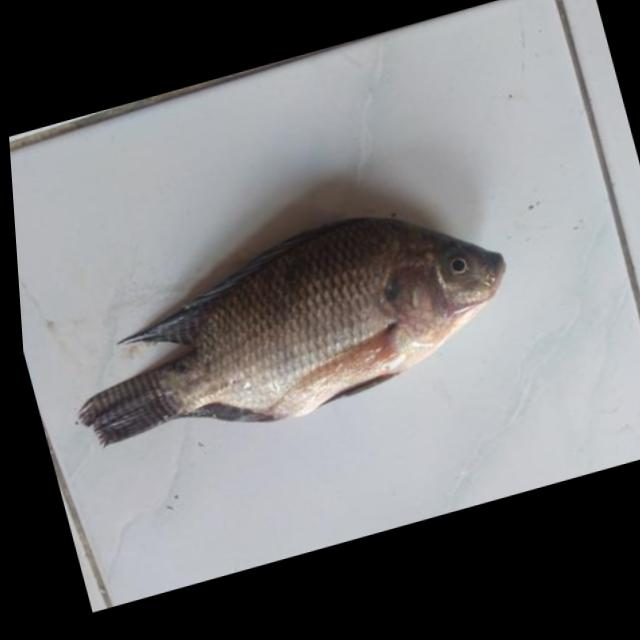Tilapia: (44, 182, 534, 481)
